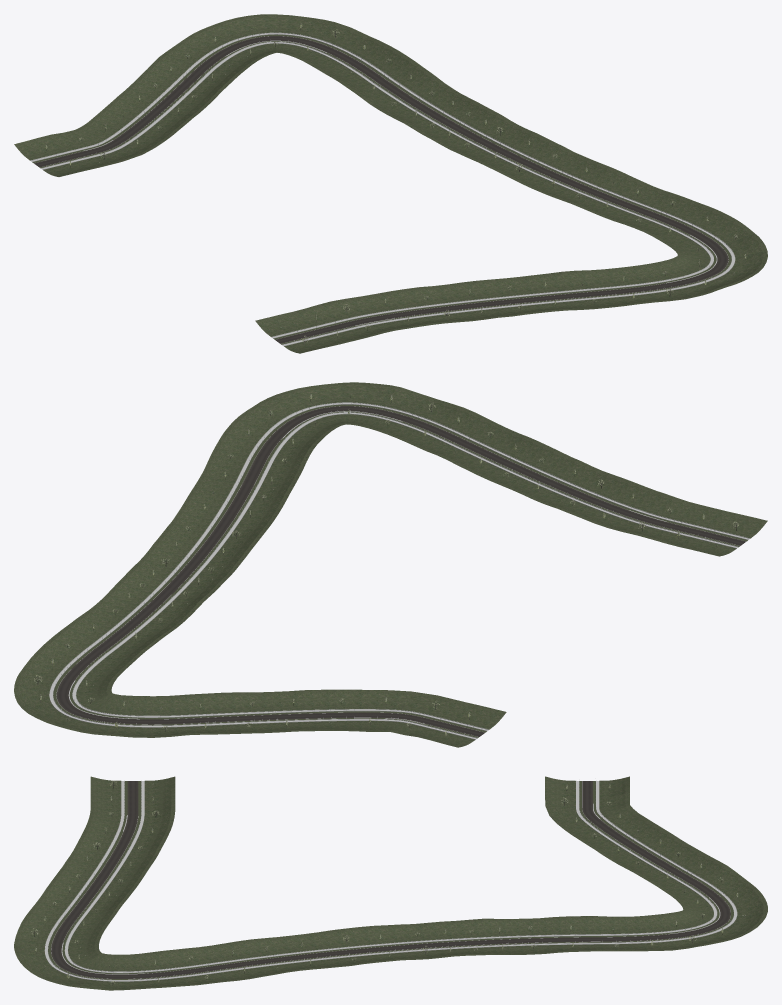
3 renders of one model, top to bottom at view 1: azimuth 30°, elevation 25°; view 2: azimuth 150°, elevation 25°; view 3: azimuth 270°, elevation 25°, orthographic. The views are drawn at different scales.
Visible parts, largest first — view 1: Grass, Road, Track, Trees; view 2: Grass, Road, Track, Trees; view 3: Grass, Road, Track, Trees.
Part boxes in pixels (<box>): Grass: <box>14,14,767,353</box>; Road: <box>34,36,728,343</box>; Track: <box>30,32,735,346</box>; Trees: <box>45,23,746,344</box>; Grass: <box>14,382,767,747</box>; Road: <box>56,406,746,736</box>; Track: <box>49,402,750,739</box>; Trees: <box>34,394,738,735</box>; Grass: <box>14,776,767,990</box>; Road: <box>51,781,730,978</box>; Track: <box>44,780,737,981</box>; Trees: <box>31,780,745,985</box>.
Size of the model in its own units: 83524 by 1702 by 124417.
